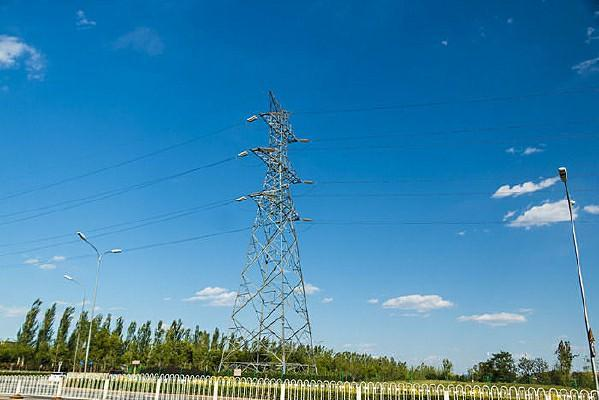power_tower: (222, 84, 323, 375)
